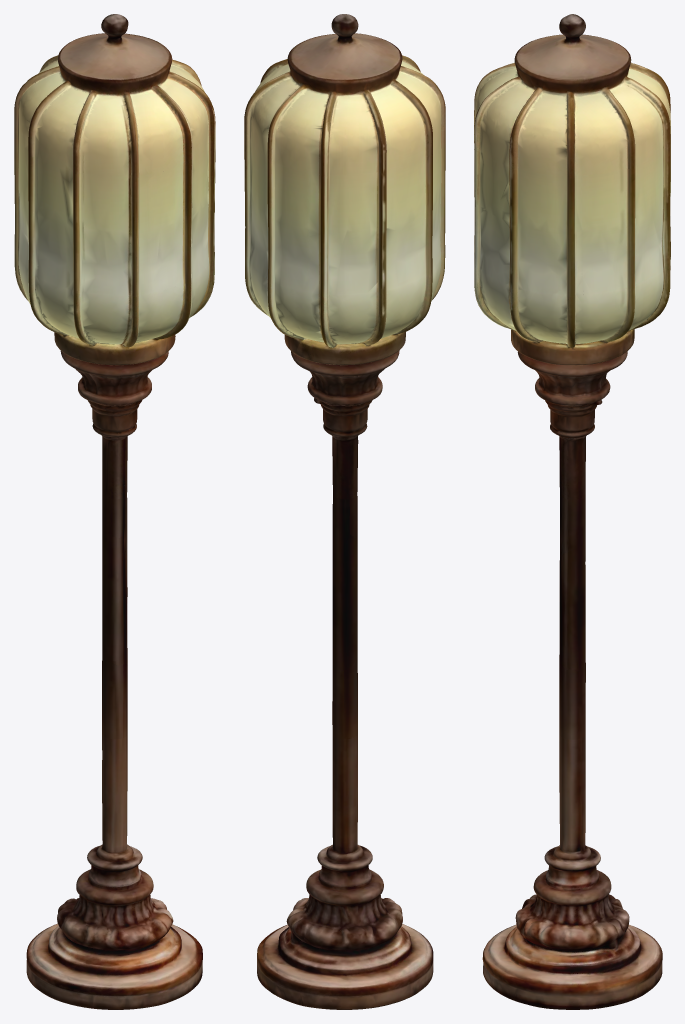
The model's file is lamp-paper.glb.
3 views of the same model, side by side, from view 1: azimuth 30°, elevation 25°; view 2: azimuth 150°, elevation 25°; view 3: azimuth 270°, elevation 25° (orthographic).
Parts seen in each view (by area): view 1: tripo_node_8f28b655-dab8-4a0e-9aaa-b1cf0a33d6c3; view 2: tripo_node_8f28b655-dab8-4a0e-9aaa-b1cf0a33d6c3; view 3: tripo_node_8f28b655-dab8-4a0e-9aaa-b1cf0a33d6c3.
Boxes of the visible parts, left/top/right/bottom form: tripo_node_8f28b655-dab8-4a0e-9aaa-b1cf0a33d6c3: left=14, top=14, right=215, bottom=1009; tripo_node_8f28b655-dab8-4a0e-9aaa-b1cf0a33d6c3: left=244, top=14, right=445, bottom=1009; tripo_node_8f28b655-dab8-4a0e-9aaa-b1cf0a33d6c3: left=474, top=14, right=670, bottom=1009.
Size of the model in its own units: 0.1893 by 1 by 0.1862.
Materials: 1 (1 with a texture image).
